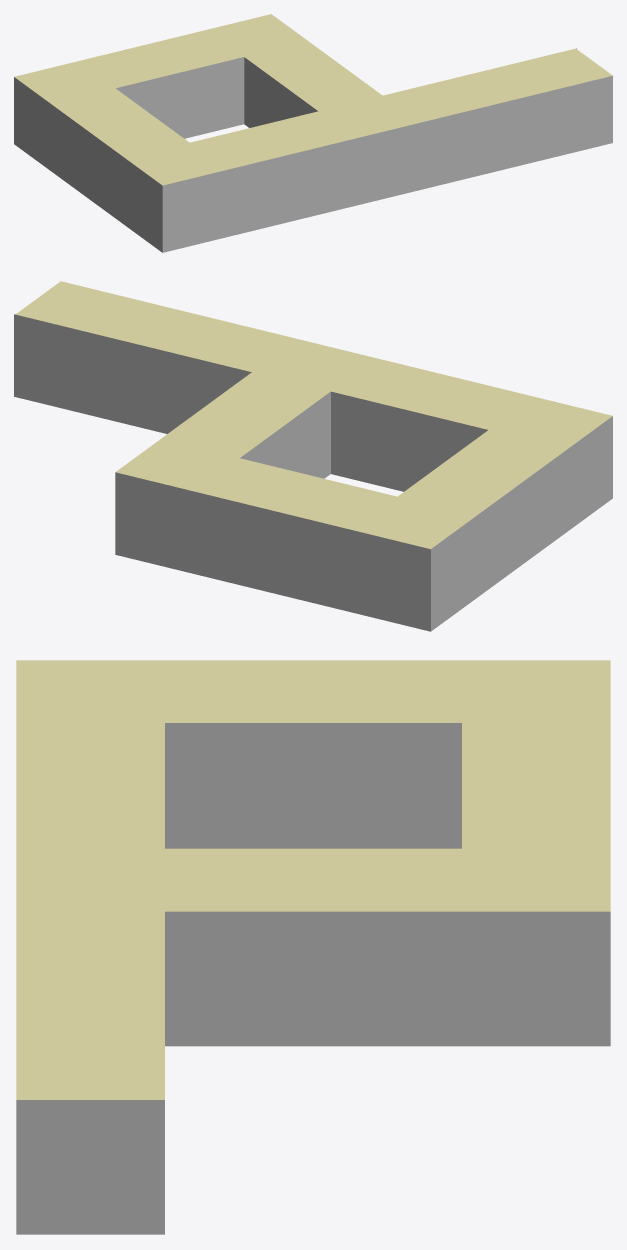
Rendered from sandbox_1_1.fbx.
3 renders of one model, top to bottom at view 1: azimuth 30°, elevation 25°; view 2: azimuth 150°, elevation 25°; view 3: azimuth 270°, elevation 25°, orthographic. The views are drawn at different scales.
Parts seen in each view (by area): view 1: ceiling, walls_007, walls_009, walls_008, walls_001, walls_002; view 2: ceiling, walls_005, walls_000, walls_008, walls_003, walls_002; view 3: ceiling, walls_006, walls_004, walls_010.
Boxes of the visible parts, bbox=[...] form: ceiling: bbox=[14, 14, 612, 185]; walls_007: bbox=[162, 123, 419, 252]; walls_009: bbox=[420, 76, 612, 189]; walls_008: bbox=[14, 77, 162, 252]; walls_001: bbox=[116, 57, 244, 138]; walls_002: bbox=[244, 57, 317, 127]; ceiling: bbox=[15, 281, 612, 549]; walls_005: bbox=[115, 472, 430, 631]; walls_000: bbox=[14, 314, 250, 433]; walls_008: bbox=[431, 416, 612, 631]; walls_003: bbox=[331, 391, 487, 491]; walls_002: bbox=[240, 391, 330, 478]; ceiling: bbox=[16, 660, 610, 1099]; walls_006: bbox=[165, 911, 610, 1046]; walls_004: bbox=[165, 723, 461, 848]; walls_010: bbox=[16, 1100, 164, 1234].
Bounding box in the file's own units: 70.17 × 10 × 40.
